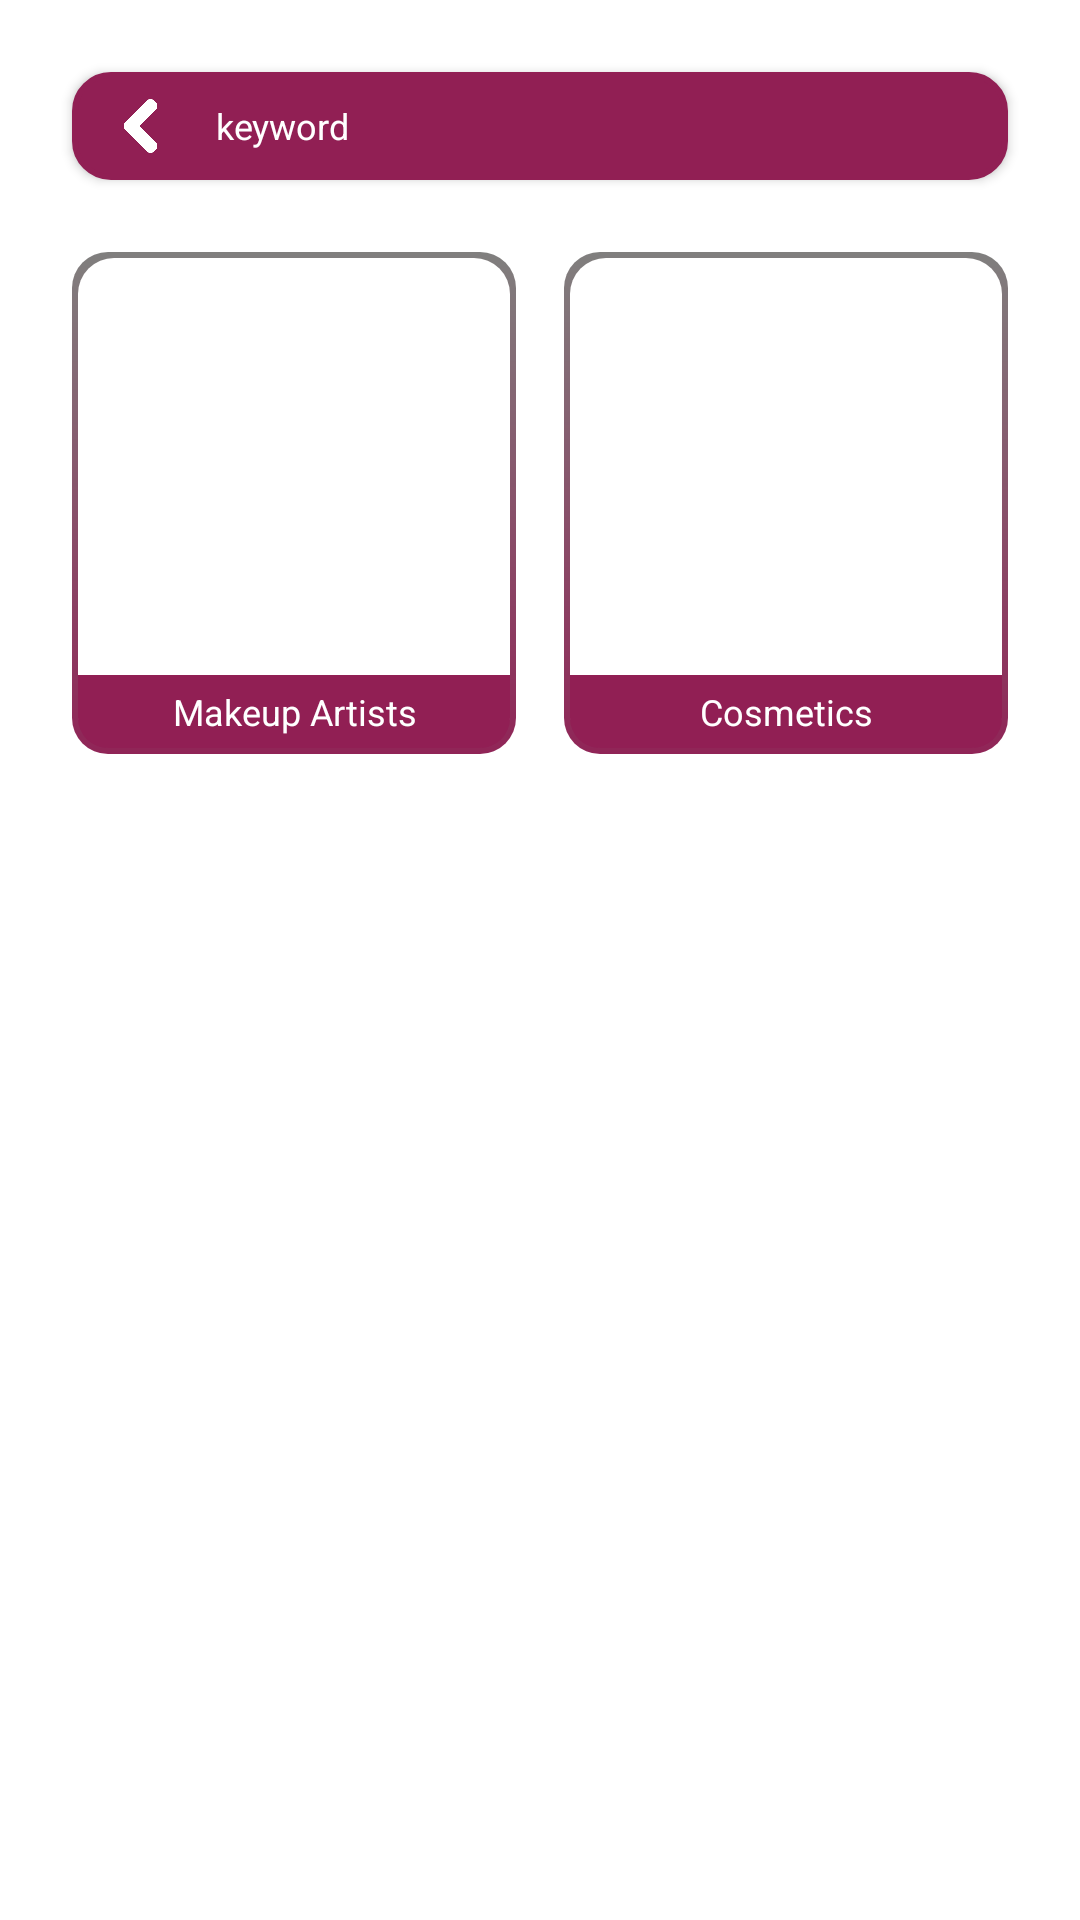

Icon click points for this 1080 × 1920 phone screenshot, format point (x, y):
arrow left: point (140, 126)
